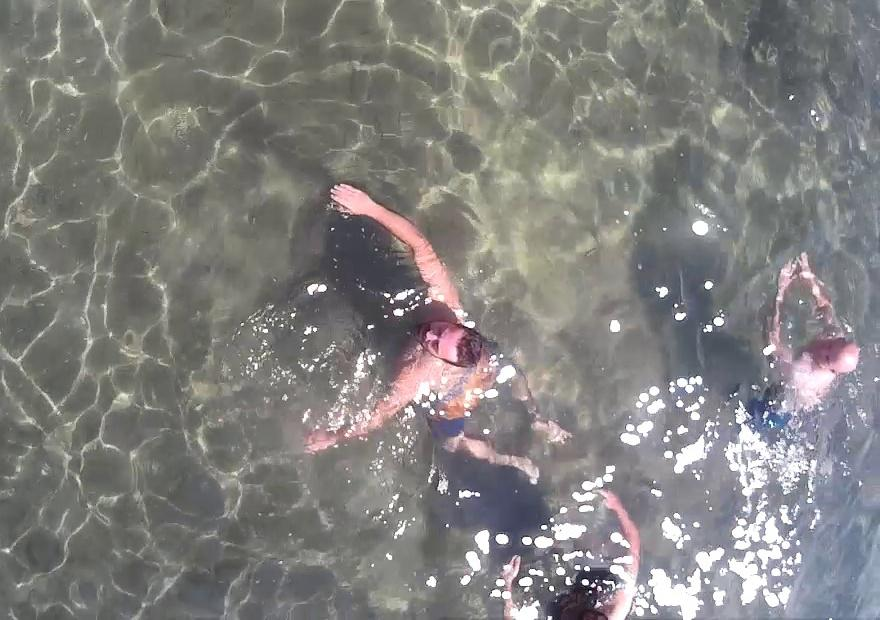swimmer: (282, 160, 542, 494), (758, 231, 874, 446)
